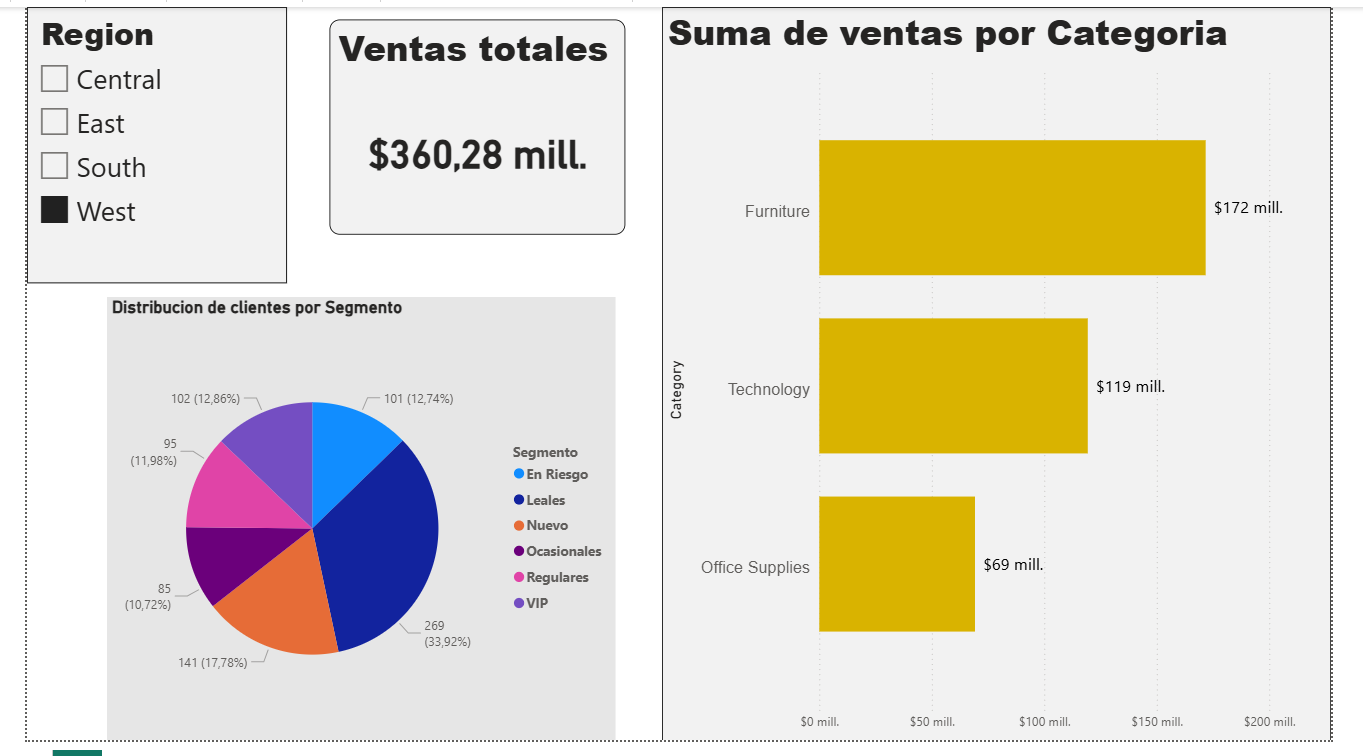

What the dashboard file says about the page in this screenshot:
{"tool":"powerbi","page":{"name":"Página 1","canvas":[1280,720],"ordinal":0},"visuals":[{"type":"card","title":"Ventas totales","fields":{"Values":["Sum(ventas_final_nico (1).Sales)"]},"box":[296.9,12.3,290.8,211],"z":0},{"type":"clusteredBarChart","title":"Suma de ventas por Categoria","fields":{"Category":["ventas_final_nico (1).Category"],"Y":["Sum(ventas_final_nico (1).Sales)"]},"box":[622.9,0,656.7,720.8],"z":1000},{"type":"slicer","fields":{"Values":["ventas_final_nico (1).Region"]},"box":[0,0,255.2,271.2],"z":2000},{"type":"pieChart","title":"Distribucion de clientes por Segmento","fields":{"Category":["clientes_rfm.Segmento"],"Y":["CountNonNull(clientes_rfm.Monetary)"]},"box":[78.5,284.7,499.4,435.6],"z":2001}]}

Visuals, with their boxes in screenshot pixels (x1, y1, x2, y2), scaled from the page's 1280x720 canvas onto the 1363x756 screenshot:
"Ventas totales" card: {"left": 316, "top": 13, "right": 626, "bottom": 234}
"Suma de ventas por Categoria" clusteredBarChart: {"left": 663, "top": 0, "right": 1362, "bottom": 755}
slicer - ventas_final_nico (1).Region: {"left": 0, "top": 0, "right": 272, "bottom": 285}
"Distribucion de clientes por Segmento" pieChart: {"left": 84, "top": 299, "right": 615, "bottom": 755}
